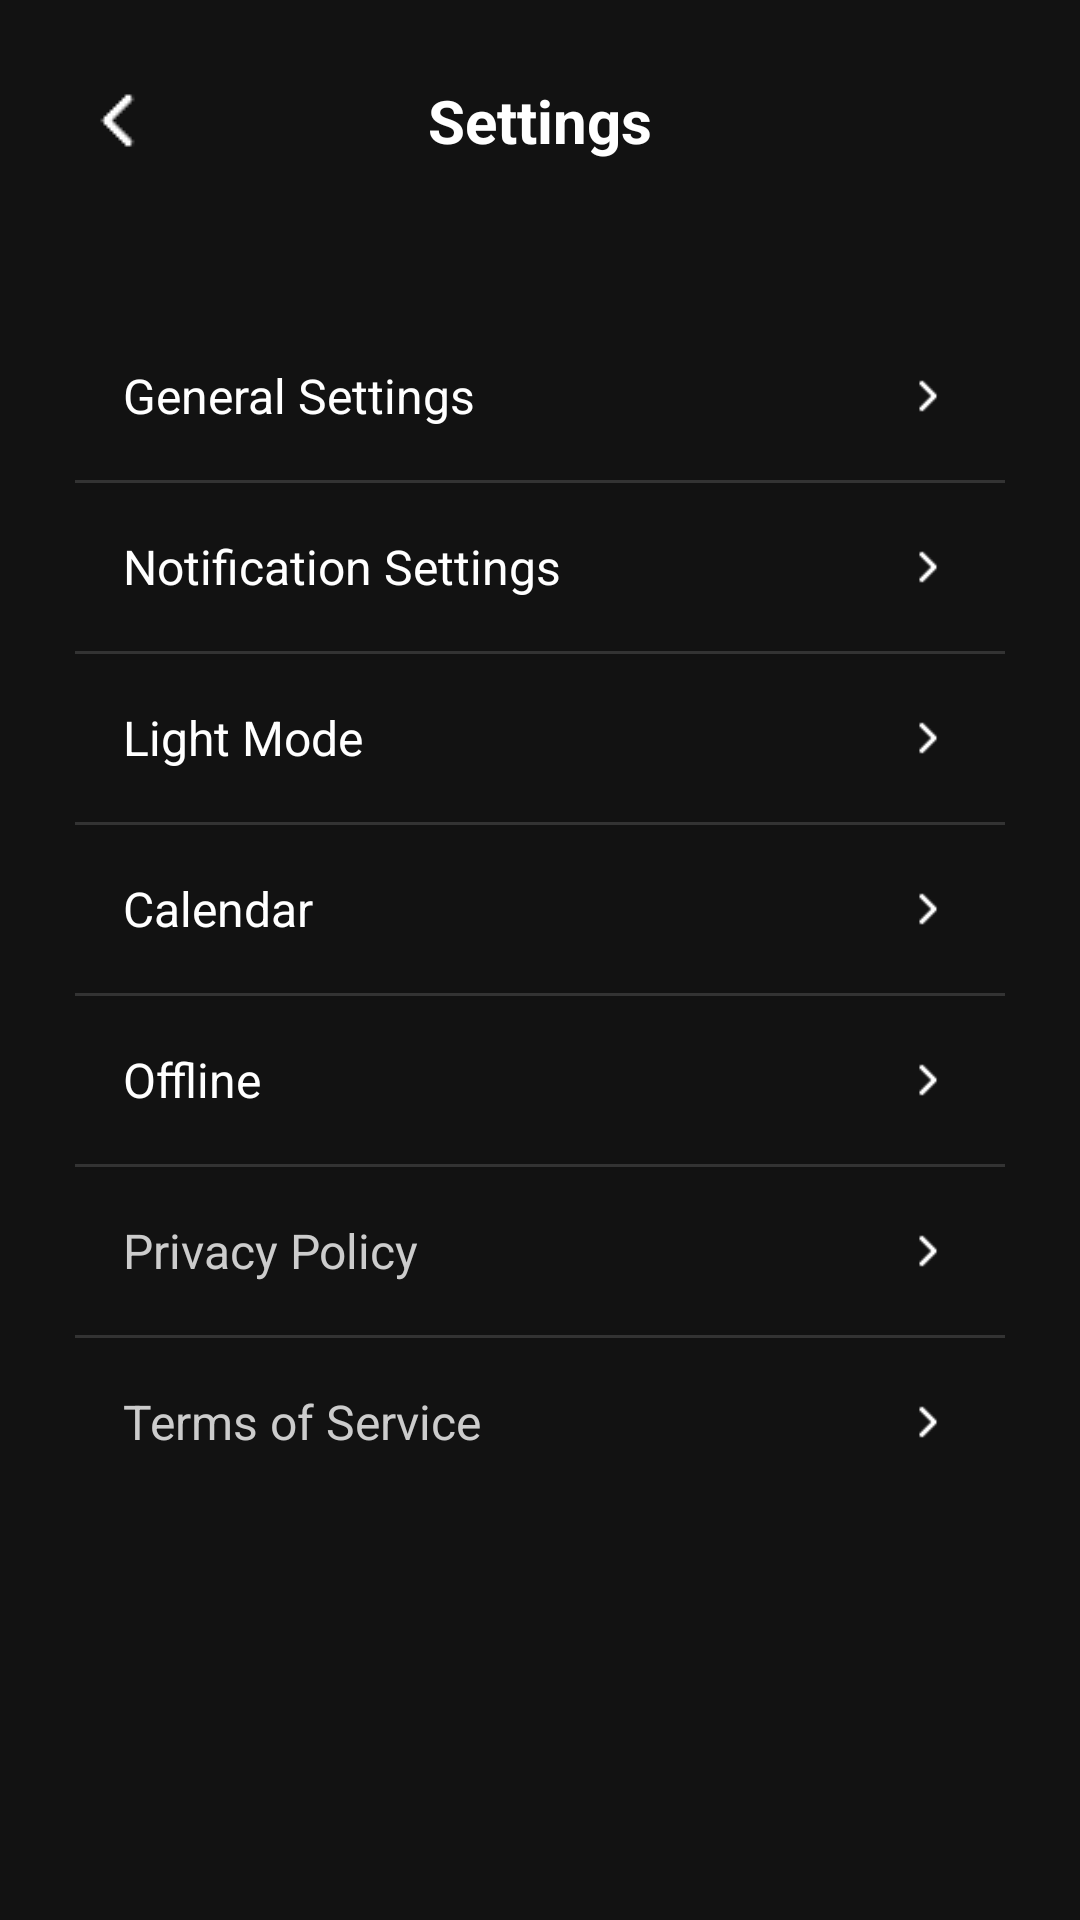

Icon click points for this 1080 x 1920 phone screenshot, format [x,y]:
Back: [117,120]
